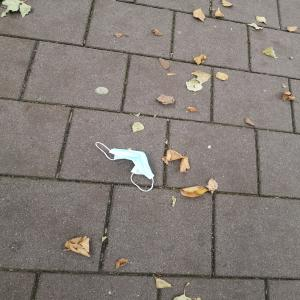Trash: (92, 139, 161, 197)
